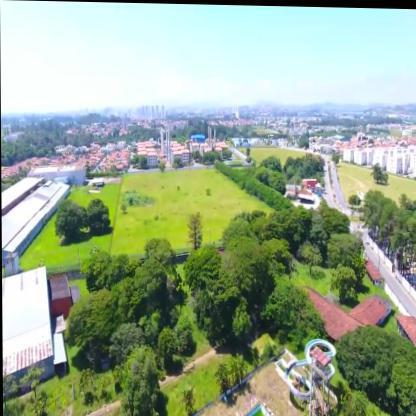agua: (241, 403, 276, 415)
